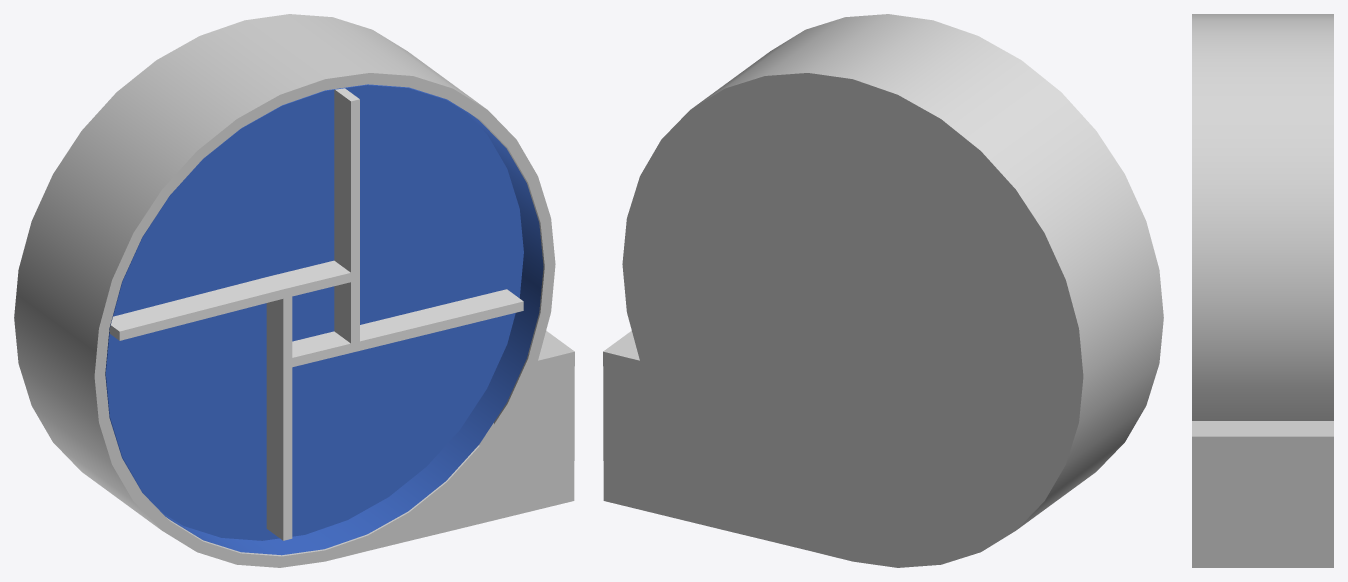
File: bomba.glb
The picture shows the model from 3 angles, left to right: view 1: azimuth 30°, elevation 25°; view 2: azimuth 150°, elevation 25°; view 3: azimuth 270°, elevation 25°; orthographic projection. The views are drawn at different scales.
Visible parts, largest first — view 1: interiorBomba, bomba, aspasBomba; view 2: bomba; view 3: bomba.
Part boxes in pixels (left/top/right/bottom): interiorBomba: left=105, top=84, right=543, bottom=555; bomba: left=14, top=14, right=574, bottom=567; aspasBomba: left=109, top=88, right=523, bottom=540; bomba: left=603, top=14, right=1163, bottom=567; bomba: left=1192, top=14, right=1333, bottom=567.
Bounding box in the file's own units: 2.08 × 2 × 0.6043.
